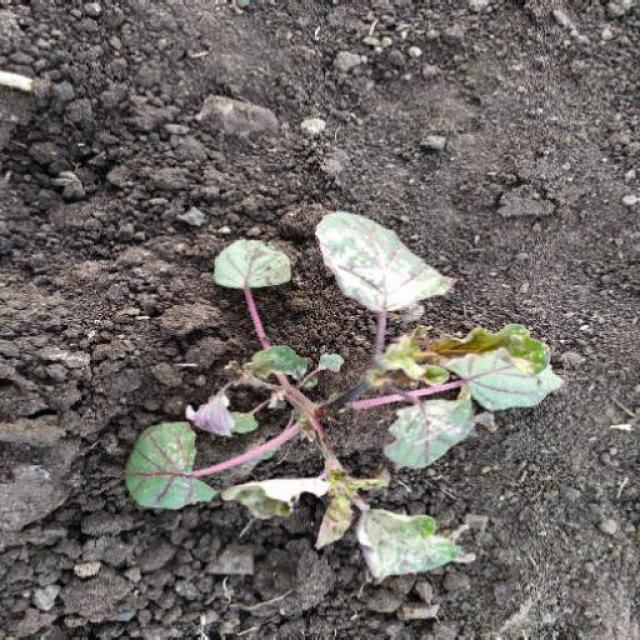crop: (120, 209, 568, 586)
